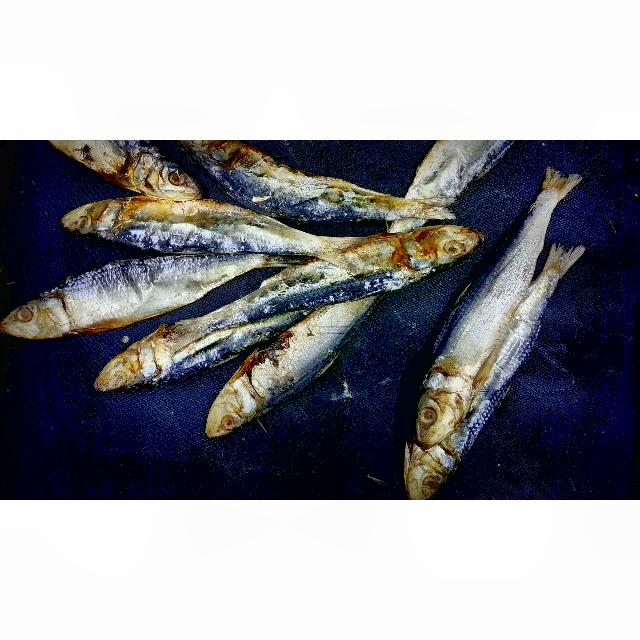Grade_B_Body: (78, 253, 223, 330), (438, 254, 537, 366), (258, 241, 399, 318), (252, 303, 354, 408), (244, 148, 379, 226), (128, 195, 267, 263)
Grade_B_Head: (0, 278, 73, 356), (398, 375, 467, 440), (389, 440, 459, 500), (135, 146, 202, 206), (411, 222, 491, 269), (86, 344, 150, 400), (201, 382, 254, 446), (61, 197, 121, 249)
Grade_B_Tail: (502, 151, 587, 242), (353, 170, 462, 226), (520, 236, 585, 328), (269, 209, 361, 273), (203, 236, 296, 280)
